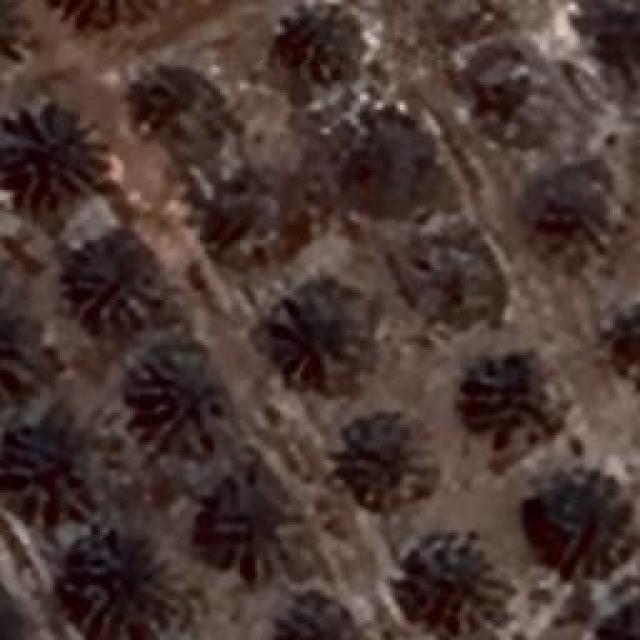PalmTree: (129, 105, 322, 618), (93, 44, 129, 582), (518, 479, 632, 579), (0, 100, 102, 210), (2, 422, 120, 516), (122, 348, 225, 452), (267, 287, 375, 385), (394, 542, 498, 636), (200, 484, 302, 574), (457, 358, 565, 438), (130, 62, 225, 148), (72, 244, 160, 334), (278, 5, 368, 90), (342, 432, 438, 510), (528, 165, 608, 252), (411, 247, 496, 326), (0, 312, 58, 406), (582, 0, 640, 70), (606, 298, 640, 384), (46, 0, 160, 24), (0, 0, 33, 72), (0, 585, 41, 640), (594, 602, 640, 640)
